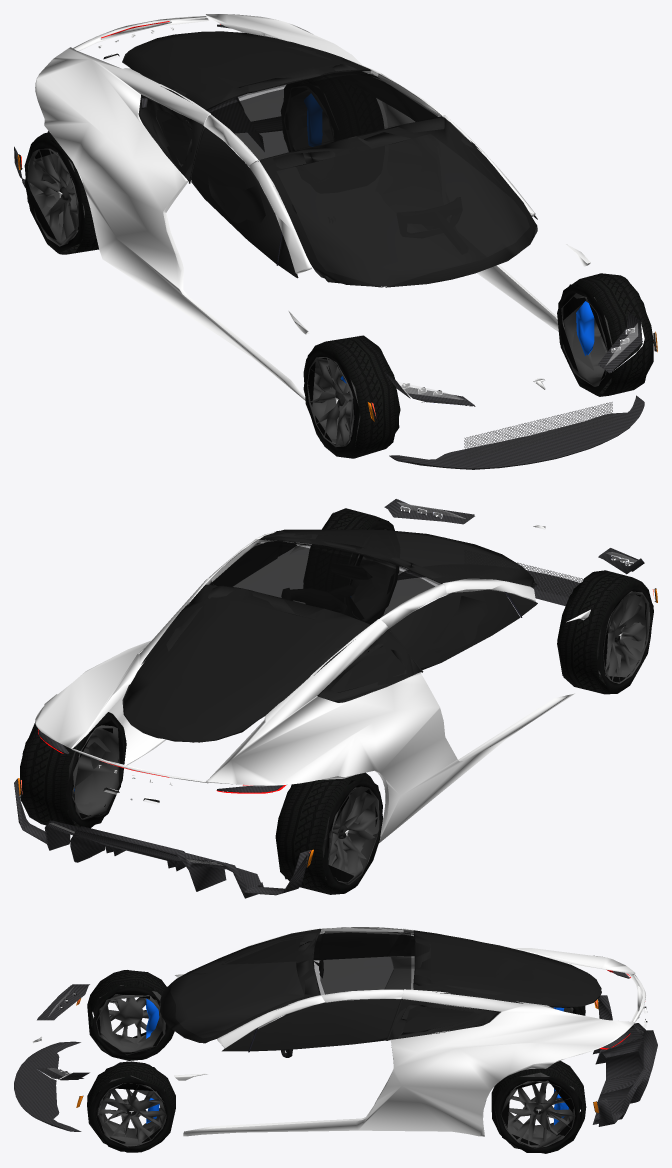
File: roadster.glb
3 renders of one model, top to bottom at view 1: azimuth 30°, elevation 25°; view 2: azimuth 150°, elevation 25°; view 3: azimuth 270°, elevation 25°, orthographic. The views are drawn at different scales.
Parts seen in each view (by area): view 1: roadster.007, TR.DEF-Body, roadster.056, roadster.057, roadster.054, roadster.002, roadster.059, roadster.001, roadster.024, TR.DEF-Wheel.Bk.R, roadster.003, roadster.053 (+16 smaller); view 2: TR.DEF-Body, roadster.054, roadster.056, roadster.057, roadster.059, roadster.004, roadster.007, roadster.002, roadster.043, roadster.003, TR.DEF-Wheel.Bk.R, TR.DEF-Wheel.Bk.L (+14 smaller); view 3: TR.DEF-Body, roadster.007, roadster.054, roadster.059, roadster.056, roadster.057, roadster.043, roadster.003, roadster.001, TR.DEF-Wheel.Bk.L, roadster.002, TR.DEF-Wheel.Ft.L (+11 smaller).
Part boxes in pixels (x1,y1,x2,y2): roadster.007: (259,116,536,286); TR.DEF-Body: (35,14,558,400); roadster.056: (206,69,441,159); roadster.057: (210,73,437,159); roadster.054: (123,31,370,110); roadster.002: (303,335,400,458); roadster.059: (191,88,436,263); roadster.001: (557,273,653,396); roadster.024: (389,395,644,469); TR.DEF-Wheel.Bk.R: (27,148,84,246); roadster.003: (281,75,383,151); roadster.053: (138,72,416,175); TR.DEF-Body: (35,578,574,842); roadster.054: (124,584,370,742); roadster.056: (206,539,441,624); roadster.057: (209,543,434,624); roadster.059: (210,541,520,670); roadster.004: (275,772,382,894); roadster.007: (260,529,535,587); roadster.002: (557,570,653,694); roadster.043: (14,778,309,898); roadster.003: (20,712,126,828); TR.DEF-Wheel.Bk.R: (322,786,379,884); TR.DEF-Wheel.Bk.L: (68,725,119,819); TR.DEF-Body: (183,928,635,1136); roadster.007: (160,928,320,1041); roadster.054: (413,930,601,1007); roadster.059: (250,933,400,1051); roadster.056: (313,927,415,994); roadster.057: (319,931,410,994); roadster.043: (592,995,657,1126); roadster.003: (491,1061,586,1153); roadster.001: (87,1061,175,1152); TR.DEF-Wheel.Bk.L: (500,1072,575,1148); roadster.002: (87,970,174,1060); TR.DEF-Wheel.Ft.L: (96,1075,166,1147).
Bounding box in the file's own units: 1.89 × 1.17 × 4.62.
Materials: 22 (4 with a texture image).
